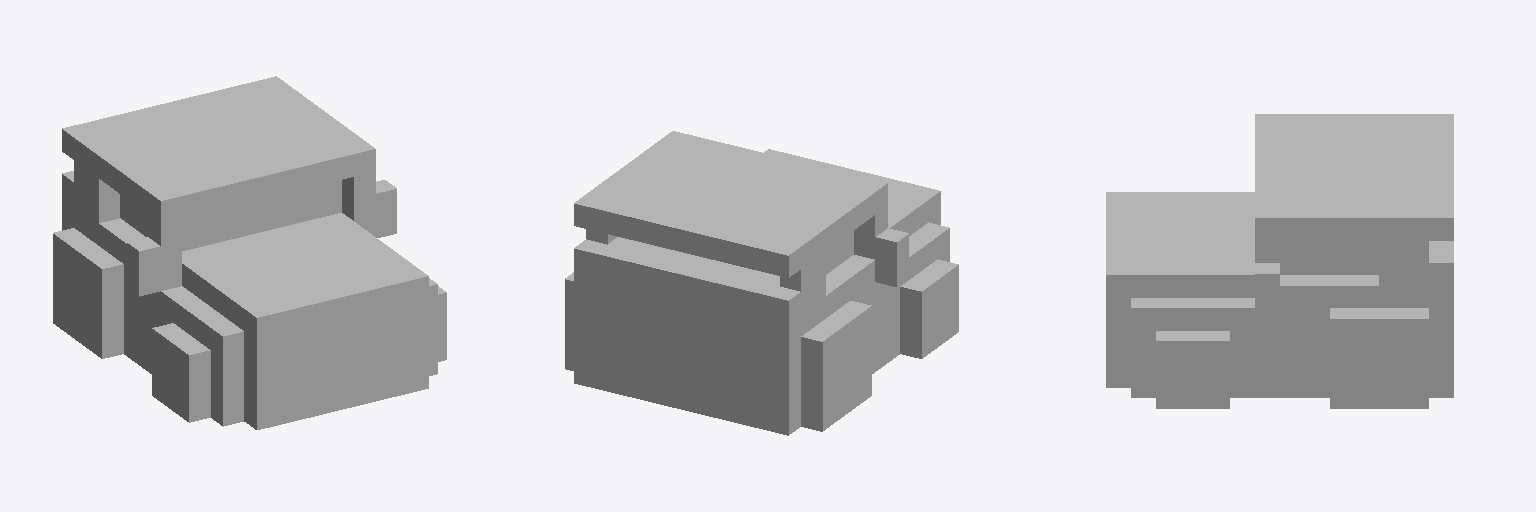
File: Voxel Design (Cars)-2.obj
3 renders of one model, left to right at view 1: azimuth 30°, elevation 25°; view 2: azimuth 150°, elevation 25°; view 3: azimuth 270°, elevation 25°, orthographic.
Parts seen in each view (by area): view 1: object 1; view 2: object 1; view 3: object 1.
Part boxes in pixels (x1,y1,x2,y2): object 1: (53,76,446,429); object 1: (565,131,958,435); object 1: (1106,114,1453,408).
Size of the model in its own units: 1.2 by 0.8 by 1.4.